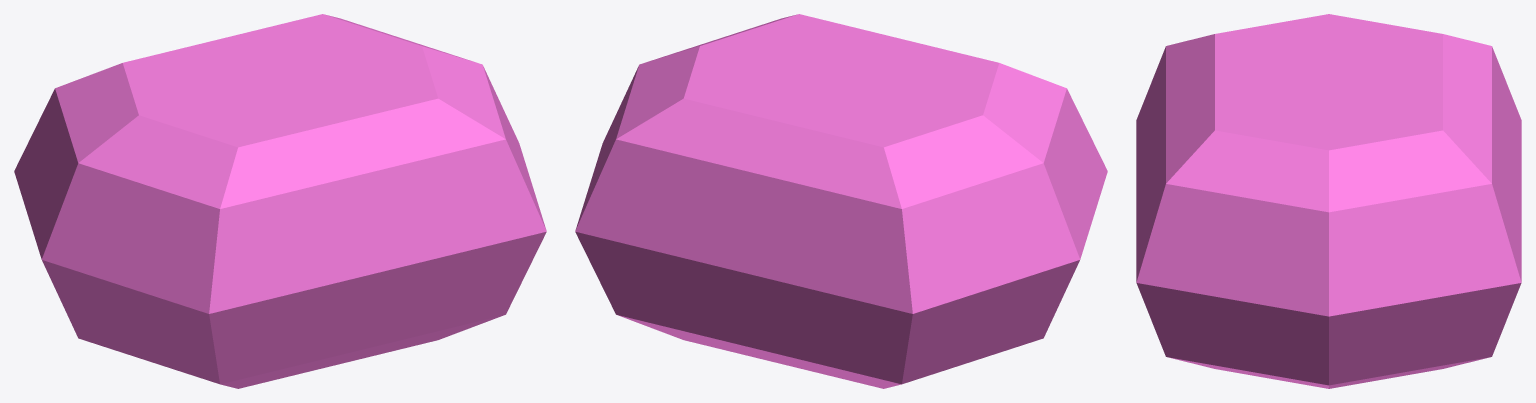
The model's file is Spinel.fbx.
3 views of the same model, side by side, from view 1: azimuth 30°, elevation 25°; view 2: azimuth 150°, elevation 25°; view 3: azimuth 270°, elevation 25° (orthographic).
Parts seen in each view (by area): view 1: Spinel; view 2: Spinel; view 3: Spinel.
Part boxes in pixels (box(x1,y1,x2,y2)): Spinel: box(14, 14, 546, 388); Spinel: box(575, 14, 1107, 388); Spinel: box(1136, 14, 1521, 388).
Bounding box in the file's own units: 200 × 96.49 × 141.
